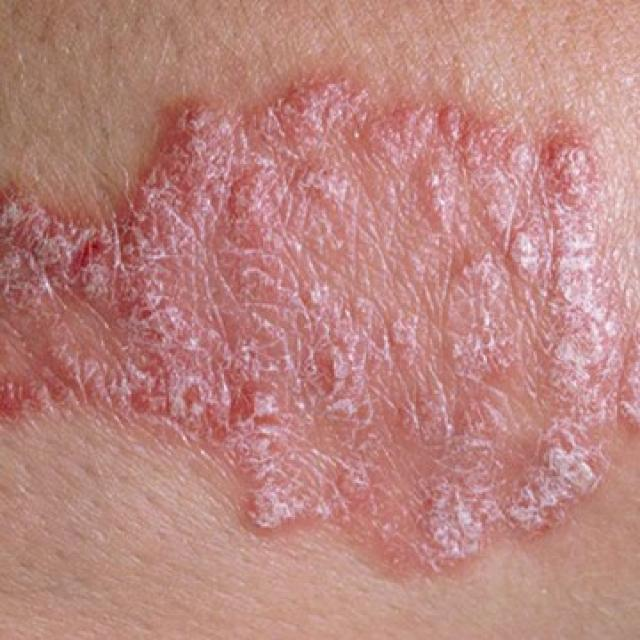Psoriasis: (0, 76, 636, 577)
